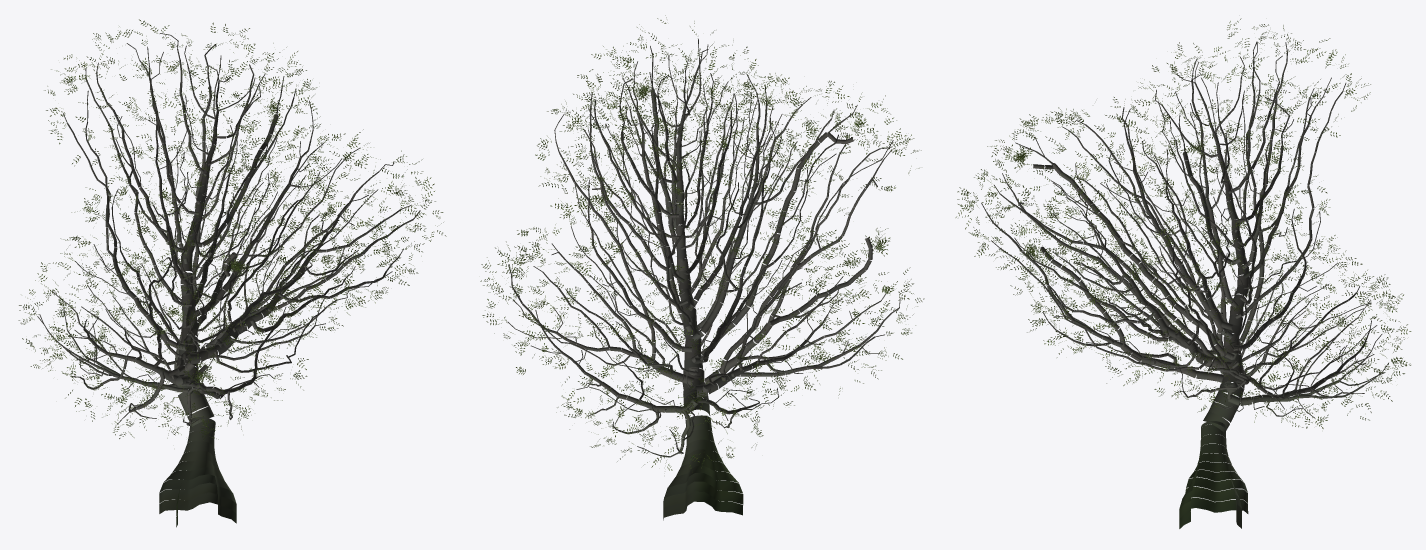
Rendered from SM_Tree_ash_0.glb.
3 views of the same model, side by side, from view 1: azimuth 30°, elevation 25°; view 2: azimuth 150°, elevation 25°; view 3: azimuth 270°, elevation 25° (orthographic).
Visible parts, largest first — view 1: SM_Tree_ash_0; view 2: SM_Tree_ash_0; view 3: SM_Tree_ash_0.
Part boxes in pixels (bbox=[...]): SM_Tree_ash_0: bbox=[18, 19, 446, 527]; SM_Tree_ash_0: bbox=[480, 15, 924, 520]; SM_Tree_ash_0: bbox=[955, 18, 1411, 528].
Size of the model in its own units: 11.07 by 13.92 by 11.95.
